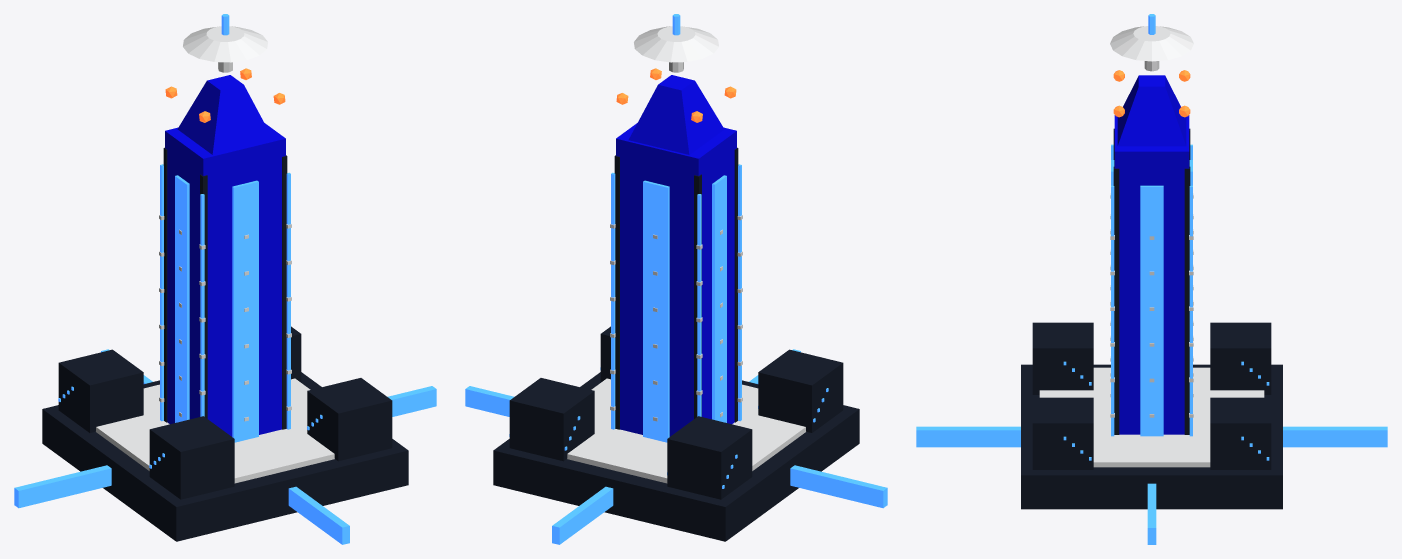
File: uit_hq.glb
3 renders of one model, left to right at view 1: azimuth 30°, elevation 25°; view 2: azimuth 150°, elevation 25°; view 3: azimuth 270°, elevation 25°, orthographic. The views are drawn at different scales.
Visible parts, largest first — view 1: UIT_Monolith, UIT_ServerBase, UIT_DataBus_7, UIT_ServerDeck, UIT_Rack_0, UIT_Rack_1, UIT_Rack_2, UIT_Monolith_Slant, UIT_DataBus_5, UIT_Dish, UIT_Slit_2, UIT_Slit_3 (+8 smaller); view 2: UIT_Monolith, UIT_ServerBase, UIT_DataBus_6, UIT_ServerDeck, UIT_Rack_2, UIT_Rack_3, UIT_Rack_0, UIT_Monolith_Slant, UIT_DataBus_5, UIT_Dish, UIT_Slit_2, UIT_Slit_1 (+8 smaller); view 3: UIT_Monolith, UIT_ServerBase, UIT_ServerDeck, UIT_DataBus_4, UIT_Rack_3, UIT_Rack_1, UIT_Rack_2, UIT_Rack_0, UIT_Monolith_Slant, UIT_Slit_1, UIT_Slit_3, UIT_Dish (+5 smaller).
Part boxes in pixels (bbox=[...]): UIT_Monolith: bbox=[165, 123, 285, 436]; UIT_ServerBase: bbox=[42, 372, 408, 541]; UIT_DataBus_7: bbox=[232, 180, 258, 442]; UIT_ServerDeck: bbox=[96, 378, 334, 483]; UIT_Rack_0: bbox=[149, 416, 234, 499]; UIT_Rack_1: bbox=[307, 378, 392, 461]; UIT_Rack_2: bbox=[58, 349, 143, 432]; UIT_Monolith_Slant: bbox=[177, 75, 273, 154]; UIT_DataBus_5: bbox=[175, 175, 189, 422]; UIT_Dish: bbox=[183, 26, 267, 62]; UIT_Slit_2: bbox=[14, 465, 111, 508]; UIT_Slit_3: bbox=[288, 486, 349, 544]; UIT_Monolith: bbox=[616, 123, 736, 436]; UIT_ServerBase: bbox=[493, 372, 859, 541]; UIT_DataBus_6: bbox=[643, 180, 669, 442]; UIT_ServerDeck: bbox=[567, 378, 805, 483]; UIT_Rack_2: bbox=[667, 416, 752, 499]; UIT_Rack_3: bbox=[509, 378, 594, 461]; UIT_Rack_0: bbox=[758, 349, 843, 432]; UIT_Monolith_Slant: bbox=[628, 75, 724, 154]; UIT_DataBus_5: bbox=[712, 175, 726, 422]; UIT_Dish: bbox=[634, 26, 718, 62]; UIT_Slit_2: bbox=[790, 465, 887, 508]; UIT_Slit_1: bbox=[552, 486, 613, 544]; UIT_Monolith: bbox=[1114, 115, 1189, 434]; UIT_ServerBase: bbox=[1021, 364, 1282, 509]; UIT_ServerDeck: bbox=[1039, 367, 1264, 467]; UIT_DataBus_4: bbox=[1140, 185, 1163, 436]; UIT_Rack_3: bbox=[1210, 397, 1271, 469]; UIT_Rack_1: bbox=[1032, 397, 1093, 469]; UIT_Rack_2: bbox=[1210, 322, 1271, 394]; UIT_Rack_0: bbox=[1032, 322, 1093, 394]; UIT_Monolith_Slant: bbox=[1117, 75, 1186, 146]; UIT_Slit_1: bbox=[1283, 426, 1387, 447]; UIT_Slit_3: bbox=[916, 426, 1020, 447]; UIT_Dish: bbox=[1110, 26, 1193, 61].
Size of the model in its own units: 50.4 by 51.75 by 50.4.
